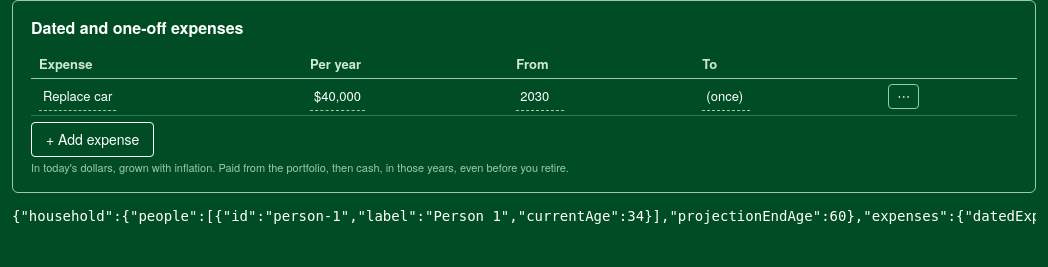
DatedExpensesSection › follows a changed plan-until age when limiting years
Note: Age 34 in 2026 reaches 60 in 2052.
Click the button with aria-label "To for Replace car" at (726, 97), box left=702, top=83, right=750, bottom=111
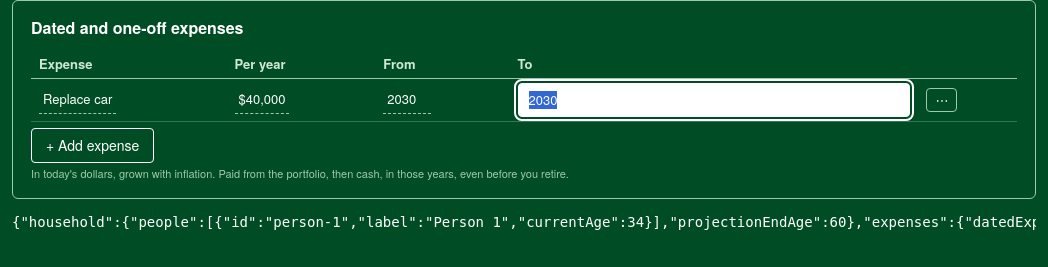
Type keys "2053{Enter}"
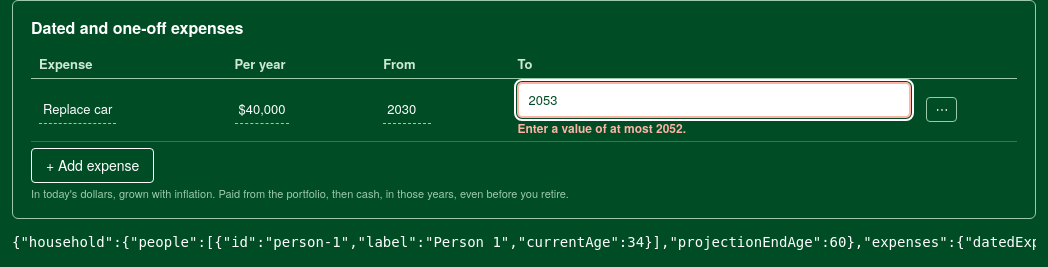
Now the text "Enter a value of at most 2052." is shown, box left=518, top=119, right=686, bottom=137
